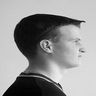ear: (35, 35, 58, 59)
